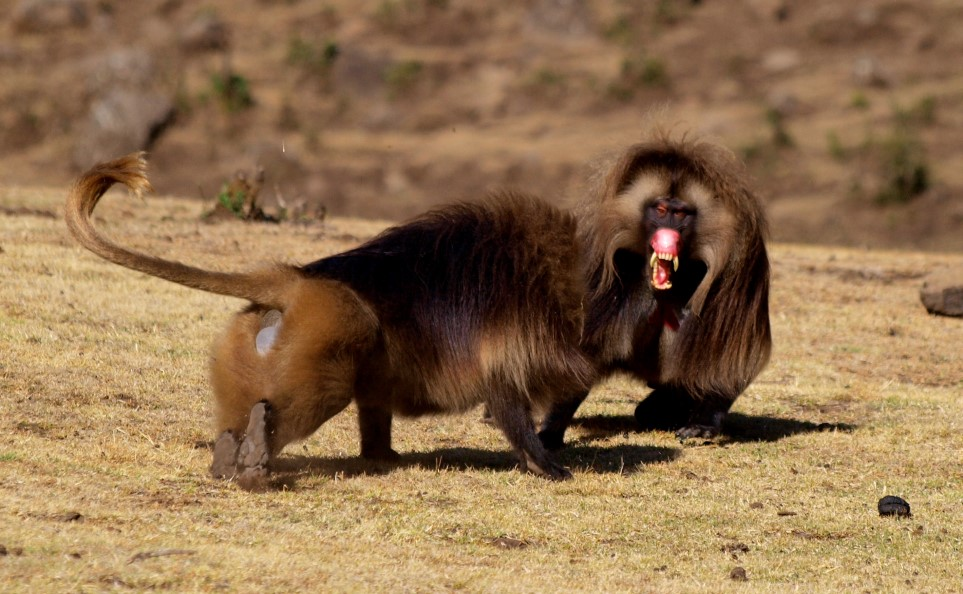Gelada: (144, 176, 586, 466), (598, 139, 780, 450)
